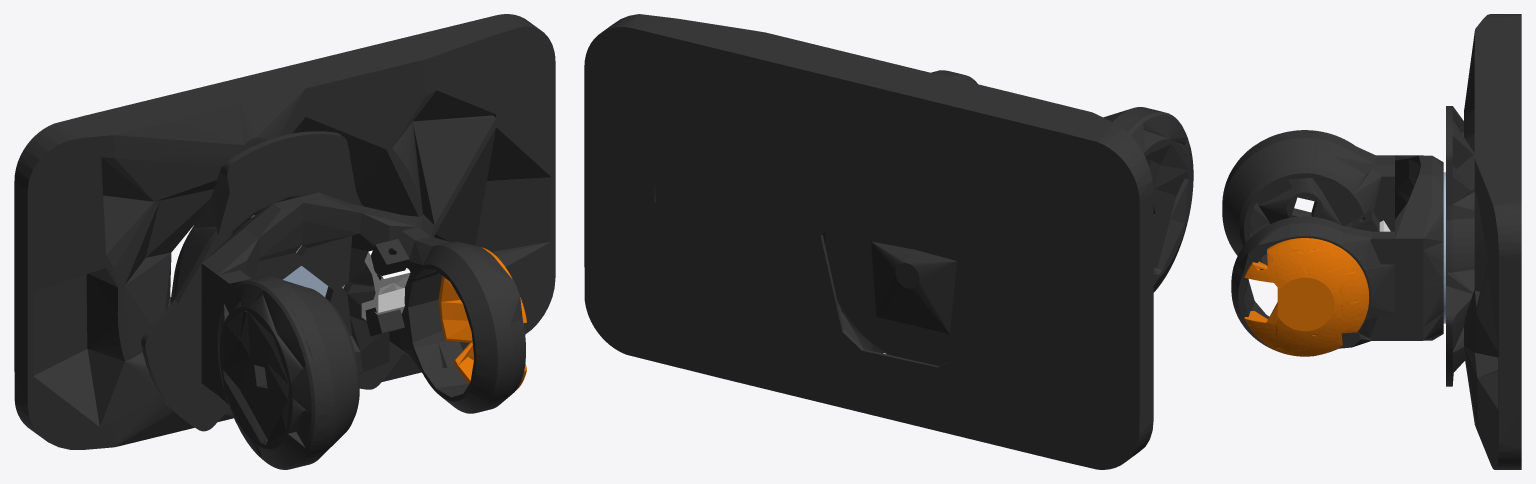
File: LLEG_LINK5_mesh.dae
The picture shows the model from 3 angles, left to right: view 1: azimuth 30°, elevation 25°; view 2: azimuth 150°, elevation 25°; view 3: azimuth 270°, elevation 25°; orthographic projection. The views are drawn at different scales.
Parts seen in each view (by area): view 1: LLEG_LINK5 (×11); view 2: LLEG_LINK5 (×3); view 3: LLEG_LINK5 (×9).
Boxes of the visible parts, left/top/right/bottom form: LLEG_LINK5 (×11): left=14, top=14, right=555, bottom=469; LLEG_LINK5 (×3): left=584, top=14, right=1193, bottom=469; LLEG_LINK5 (×9): left=1222, top=14, right=1521, bottom=469.
Bounding box in the file's own units: 0.23 × 0.13 × 0.1325.
